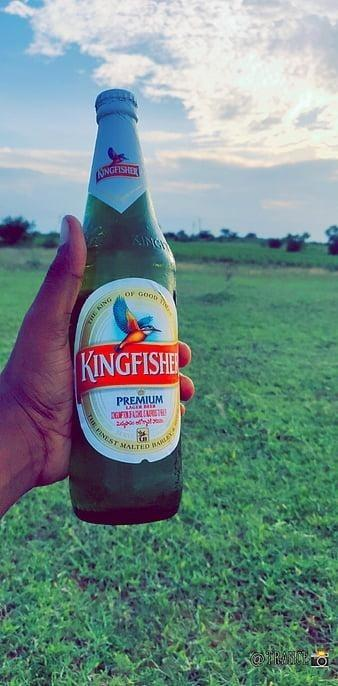bottle-glass: (57, 85, 188, 531)
